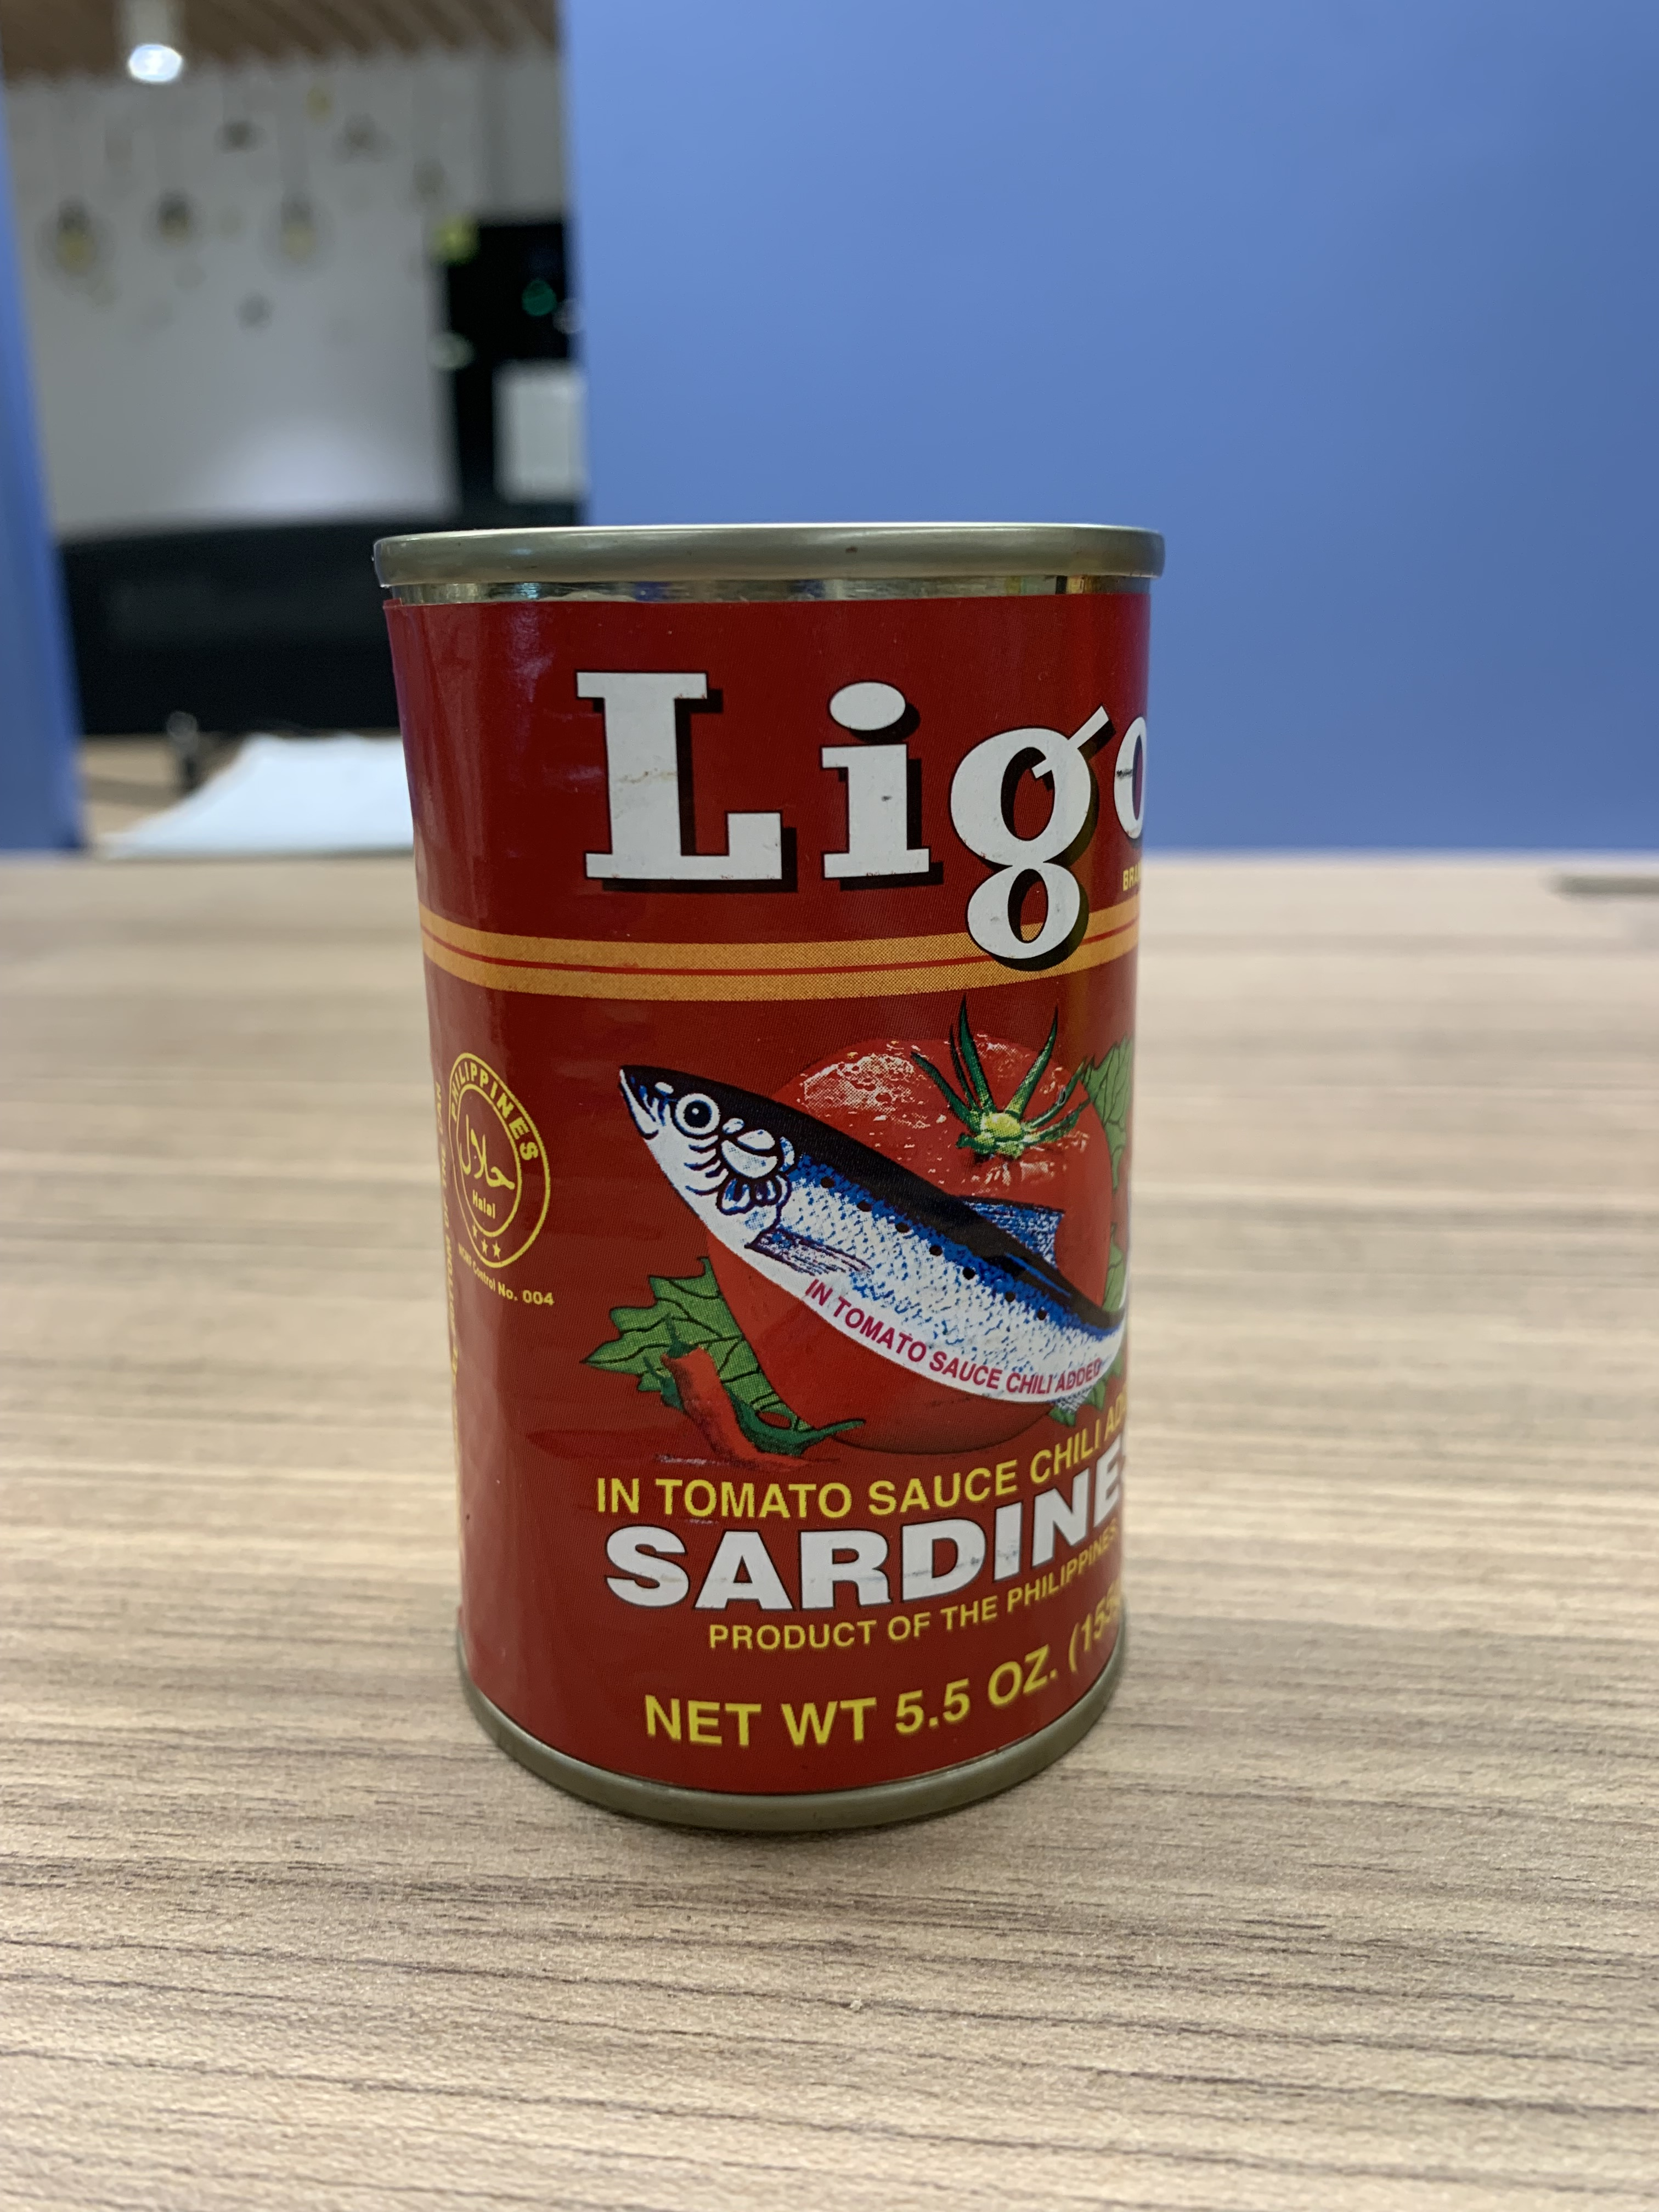sardines_100g-199g: (460, 636, 1115, 1743)
